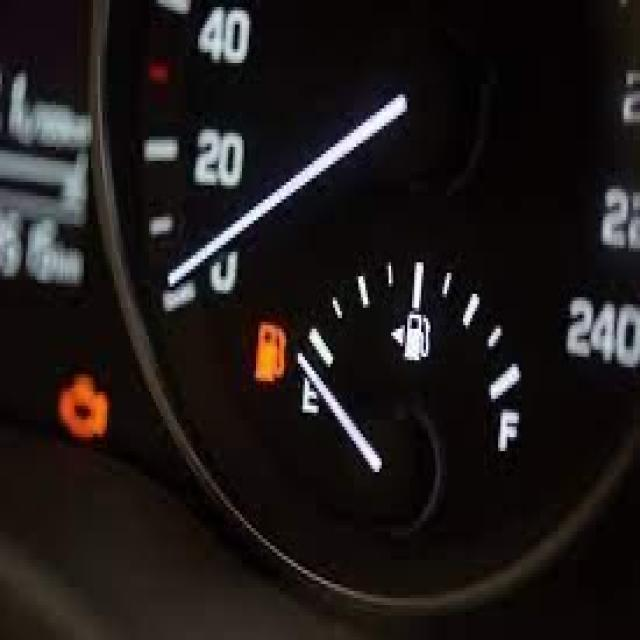kontrolka: (240, 302, 292, 392)
